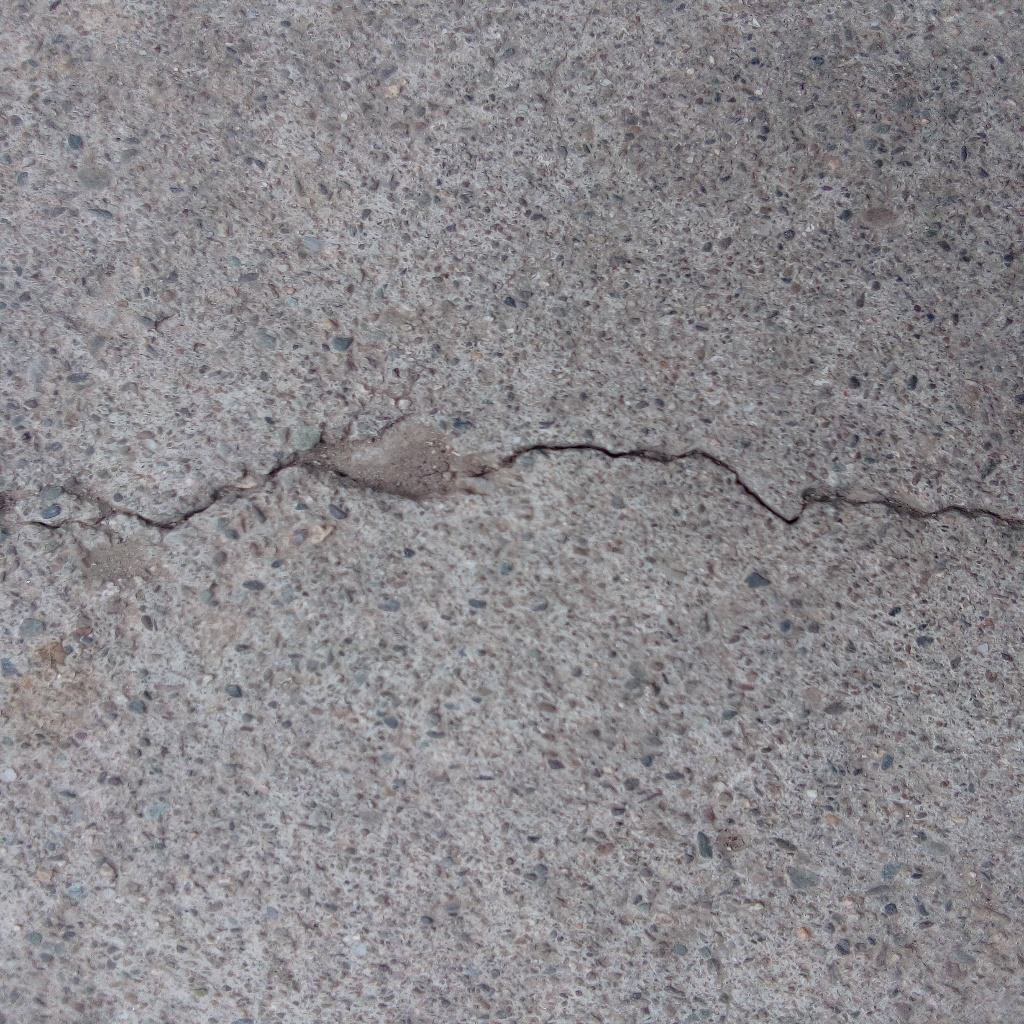Crack: (1, 413, 1024, 533)
